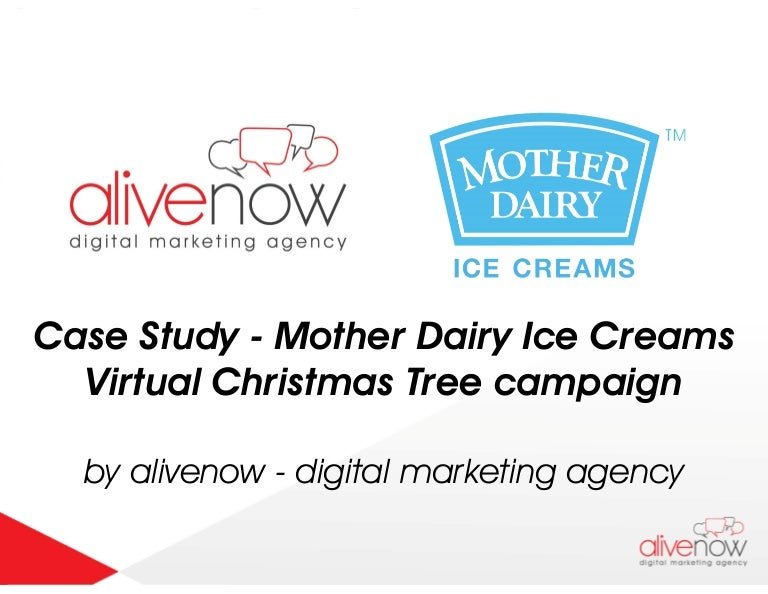Mother_Dairy: (410, 110, 715, 282)
